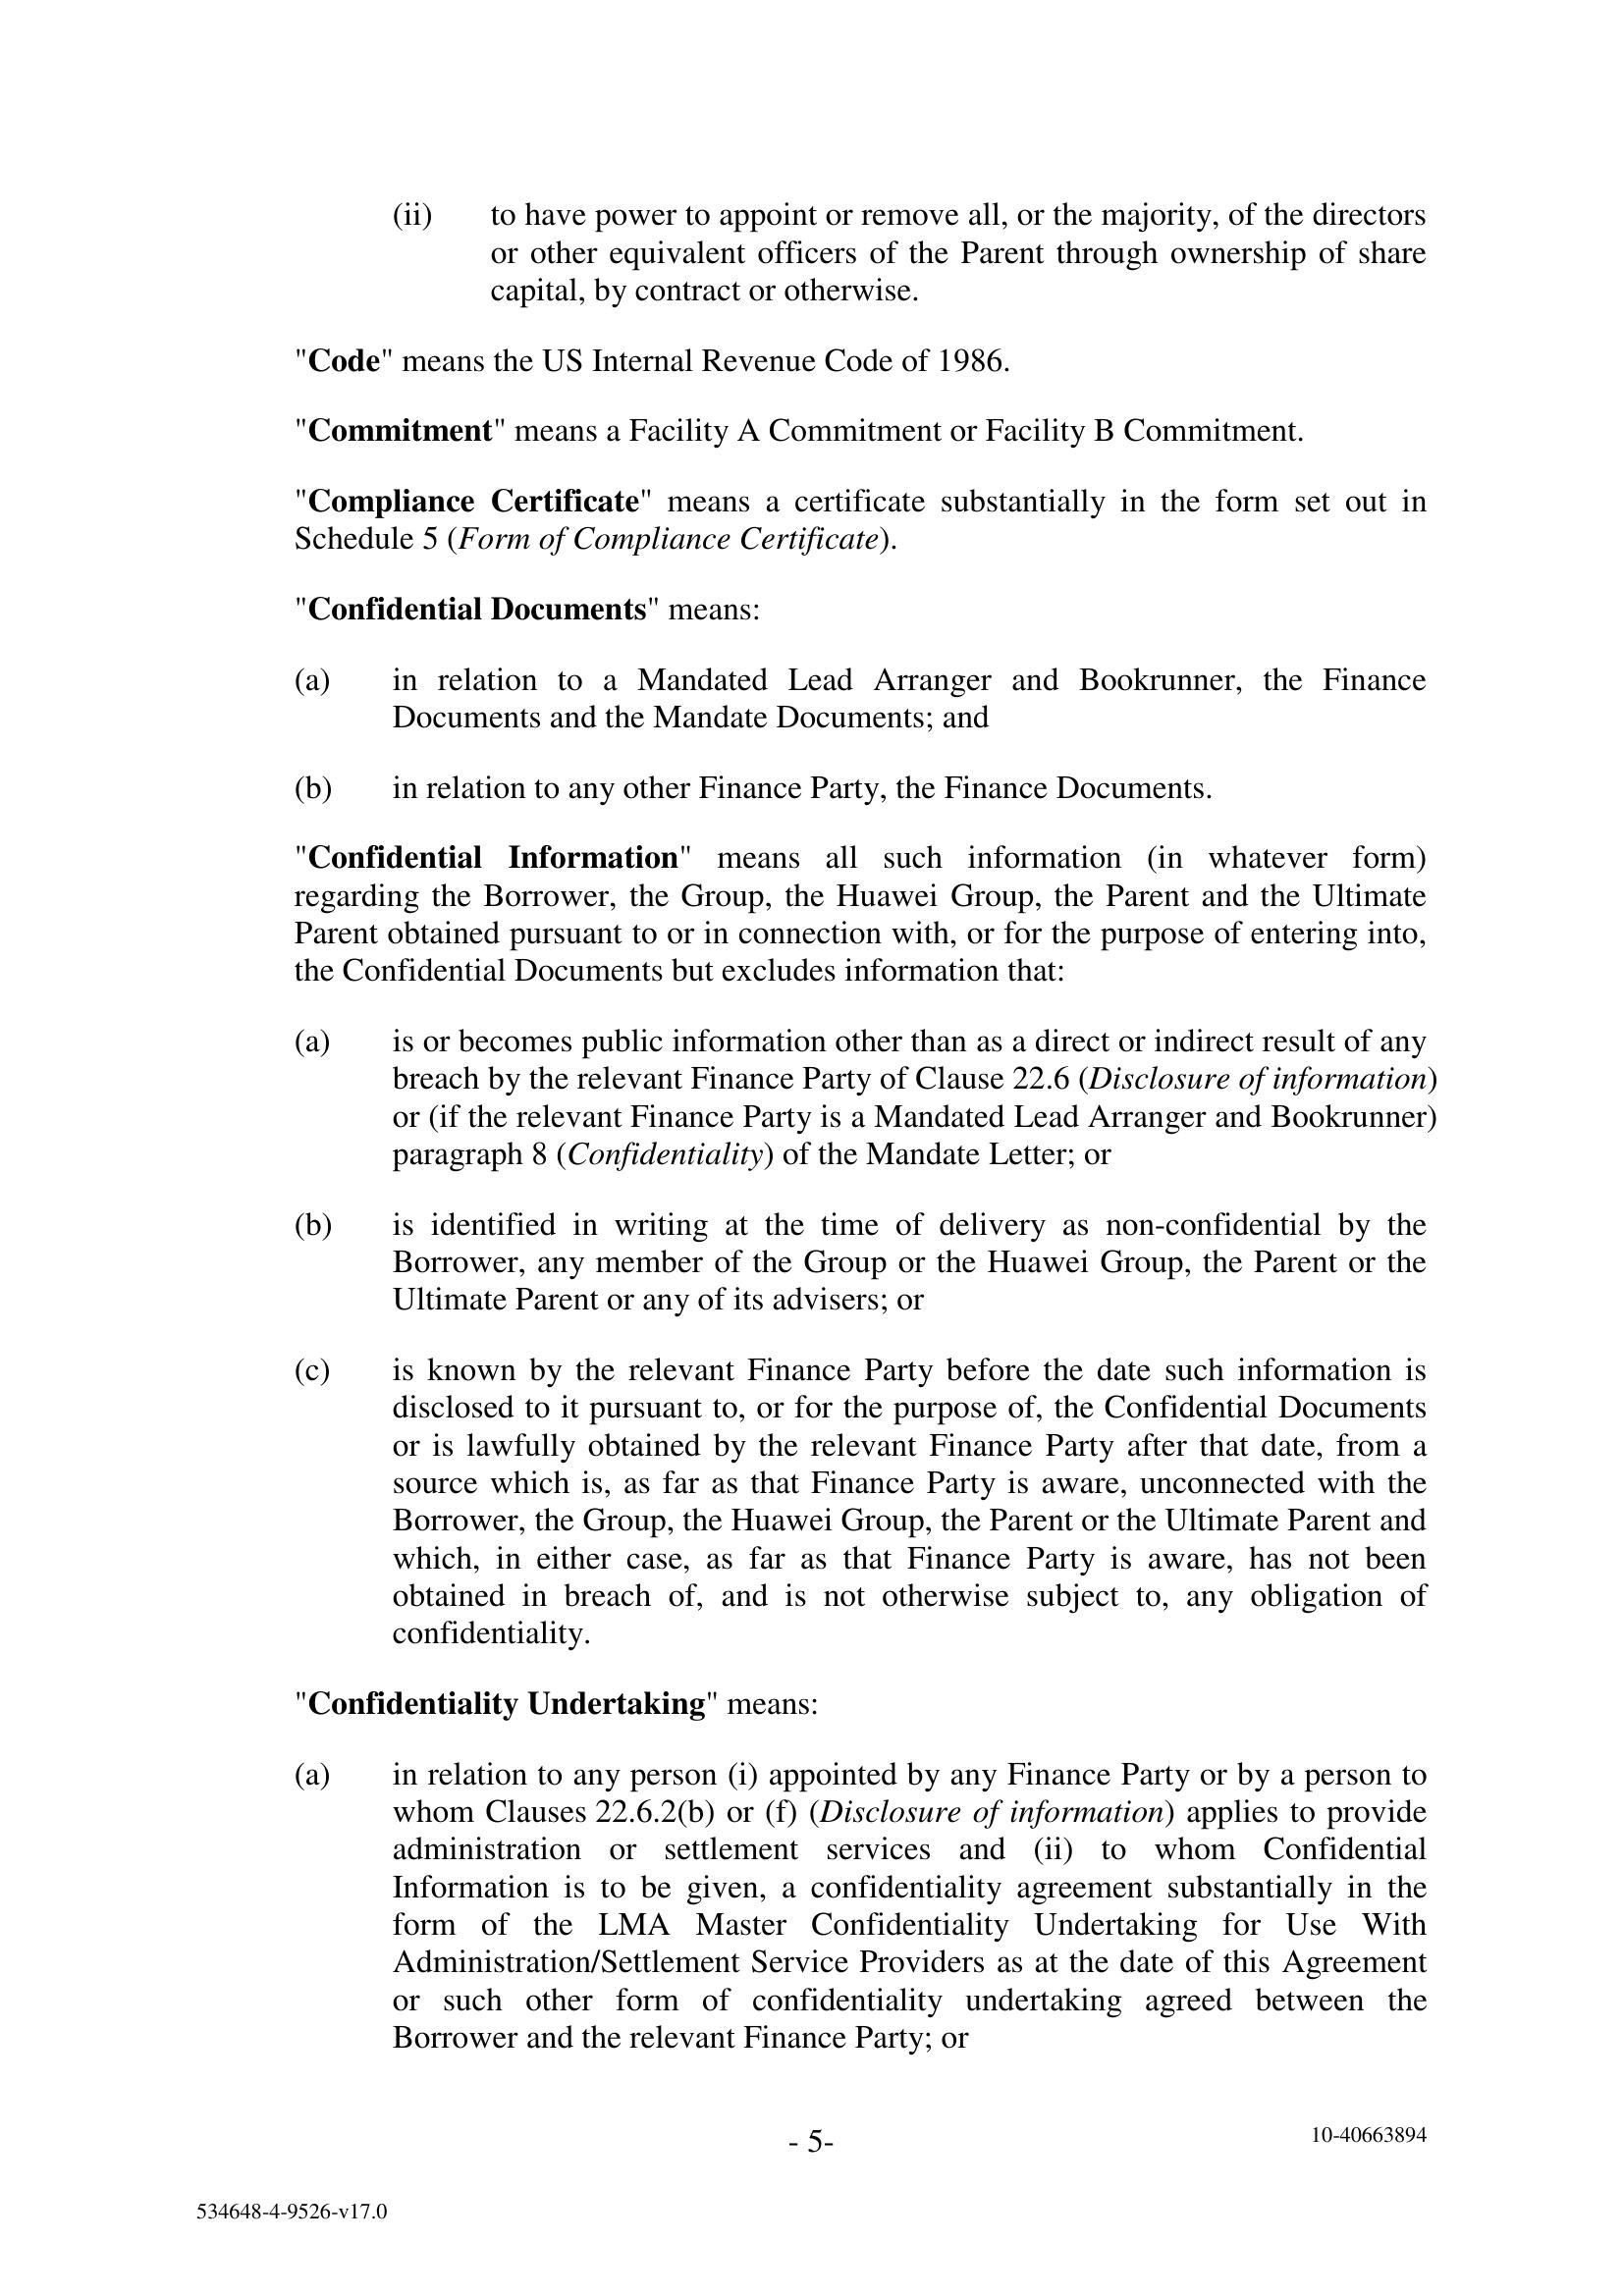pageno: (729, 2099, 892, 2206)
tag: (1203, 2085, 1535, 2194), (84, 2180, 497, 2264)
